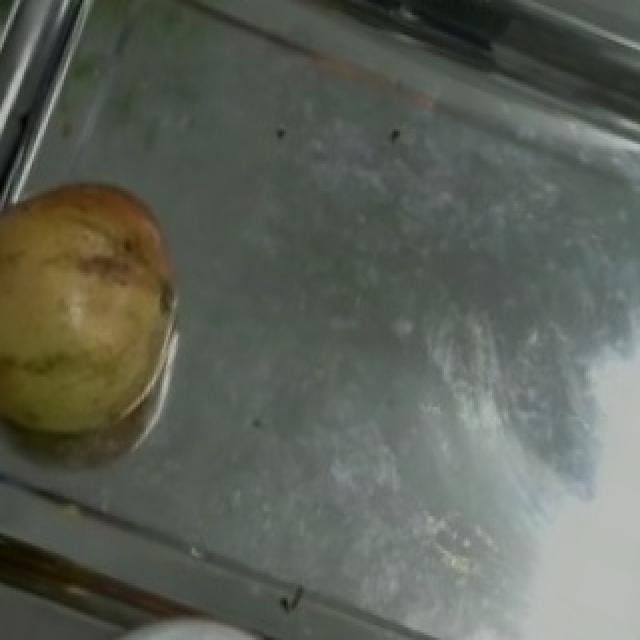fruit: (0, 151, 212, 402)
